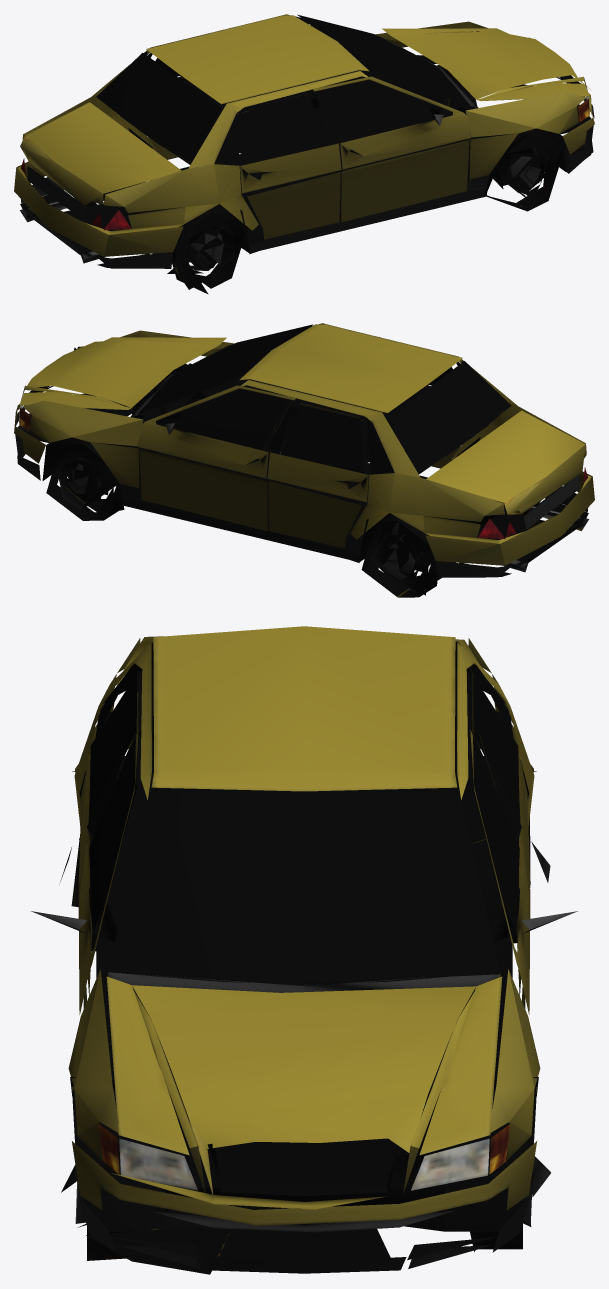
Rendered from car5Low.obj.
3 renders of one model, top to bottom at view 1: azimuth 30°, elevation 25°; view 2: azimuth 150°, elevation 25°; view 3: azimuth 270°, elevation 25°, orthographic. The views are drawn at different scales.
Visible parts, largest first — view 1: car5Low; view 2: car5Low; view 3: car5Low.
Part boxes in pixels (bbox=[...]): car5Low: bbox=[14, 14, 594, 294]; car5Low: bbox=[14, 323, 594, 597]; car5Low: bbox=[31, 626, 577, 1274].
Bounding box in the file's own units: 4.39 × 1.38 × 1.97.
Materials: 1 (1 with a texture image).
